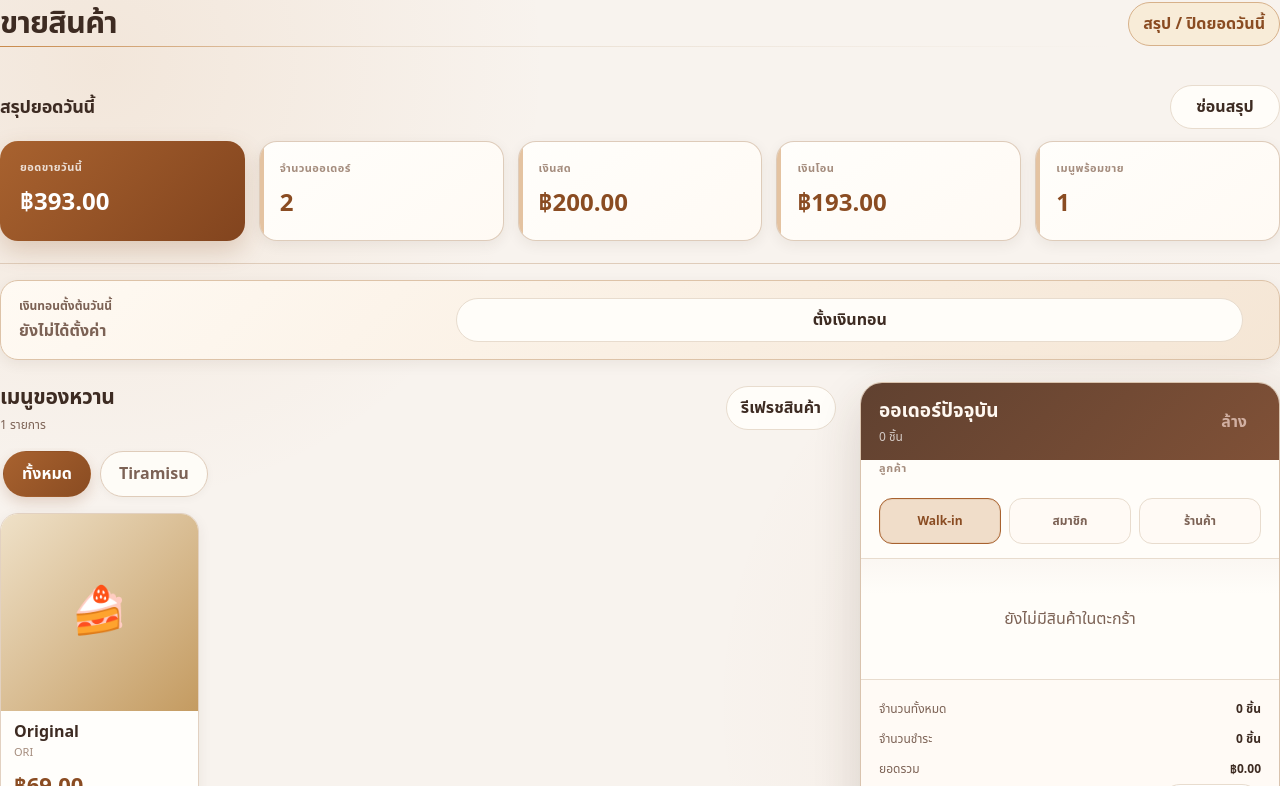
Test: Sell close-day workflow › explains the marker semantics and allows an already-closed day to be re-closed
This screenshot has width=1280, height=786.
Click the button "สรุป / ปิดยอดวันนี้": {"x": 1204, "y": 24} [1128,2,1279,46]
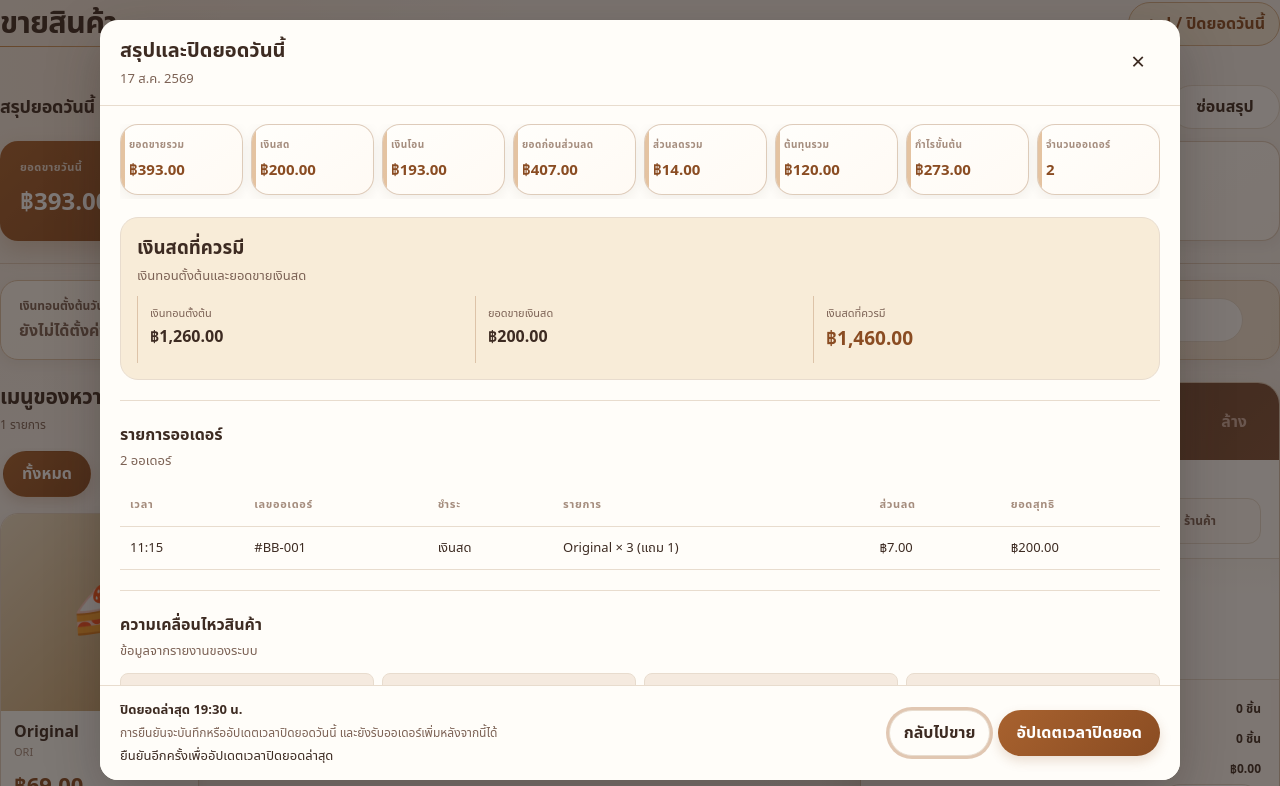
Expected: the text "ปิดยอดล่าสุด 19:30 น." is shown, [120,700,242,720]
Expected: the text "ยังรับออเดอร์เพิ่มหลังจากนี้ได้" is shown, [120,724,497,742]
Click the button "อัปเดตเวลาปิดยอด": {"x": 1079, "y": 733} [998,710,1160,756]
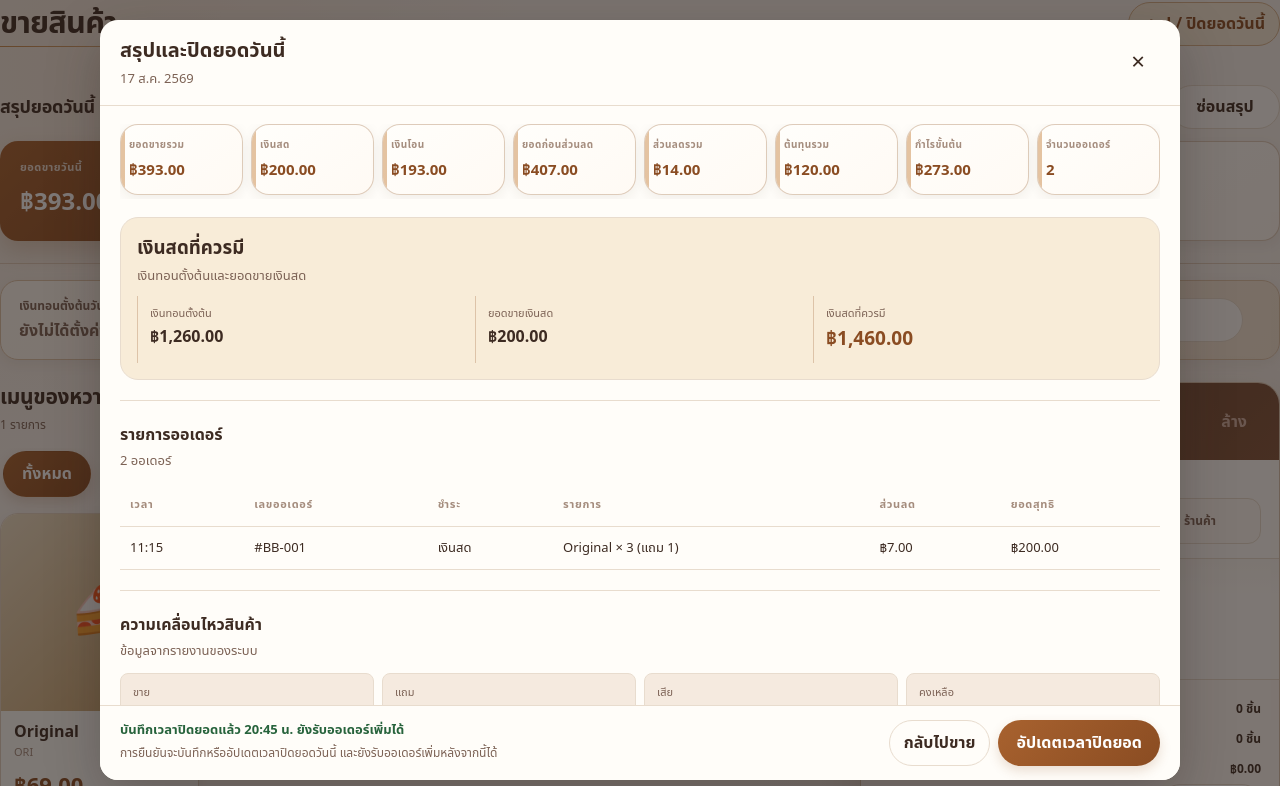
Expected: the text "บันทึกเวลาปิดยอดแล้ว 20:45 น. ยังรับออเดอร์เพิ่มได้" is shown, [120,720,404,740]
